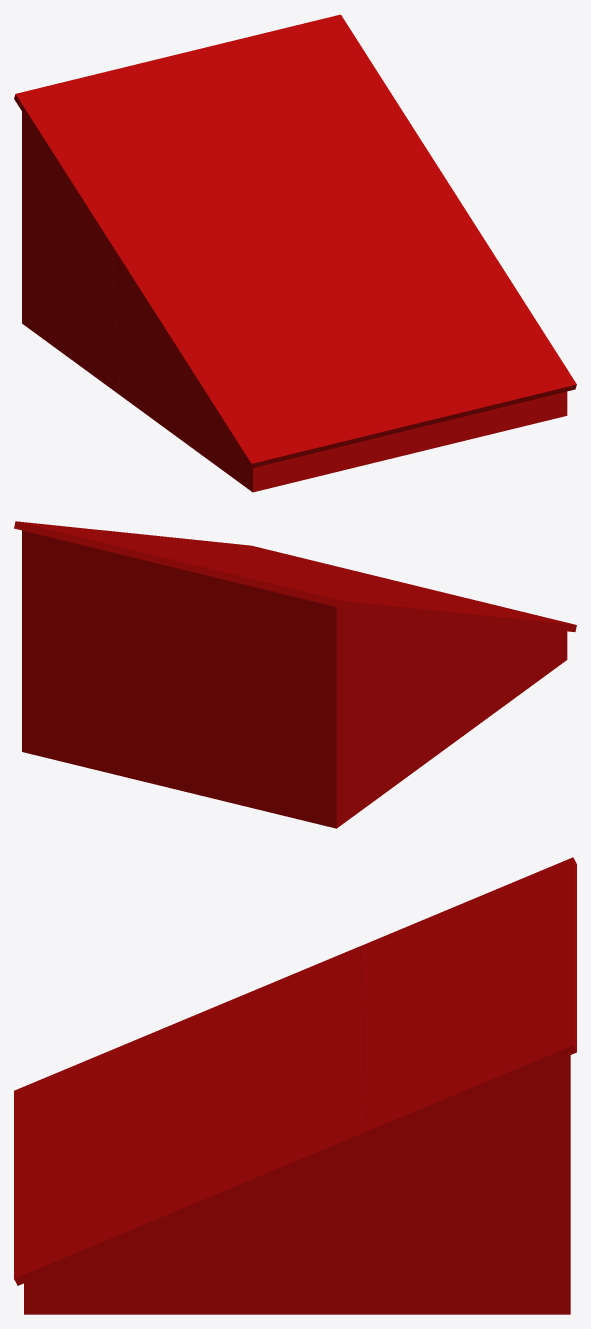
Rendered from left-slanted-garage-roof.fbx.
3 renders of one model, top to bottom at view 1: azimuth 30°, elevation 25°; view 2: azimuth 150°, elevation 25°; view 3: azimuth 270°, elevation 25°, orthographic. The views are drawn at different scales.
Parts seen in each view (by area): view 1: lf_slanted_garage_roof_piece, lf_slanted_garage_roof_piece1; view 2: lf_slanted_garage_roof_piece1, lf_slanted_garage_roof_piece; view 3: lf_slanted_garage_roof_piece, lf_slanted_garage_roof_piece1.
Part boxes in pixels (x1,y1,x2,y2): lf_slanted_garage_roof_piece: [105, 151, 576, 492]; lf_slanted_garage_roof_piece1: [14, 14, 427, 394]; lf_slanted_garage_roof_piece1: [14, 521, 434, 828]; lf_slanted_garage_roof_piece: [103, 530, 576, 756]; lf_slanted_garage_roof_piece: [14, 946, 366, 1314]; lf_slanted_garage_roof_piece1: [344, 857, 576, 1314].
Size of the model in its own units: 4.75 by 3.21 by 6.01.
